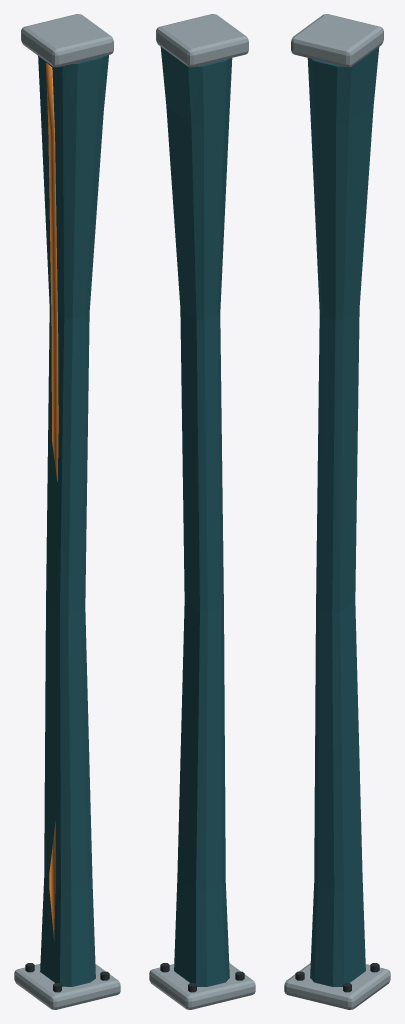
Rendered from SM_StationPost.fbx.
3 views of the same model, side by side, from view 1: azimuth 30°, elevation 25°; view 2: azimuth 210°, elevation 25°; view 3: azimuth 330°, elevation 25° (orthographic).
Visible parts, largest first — view 1: SM_StationPost_UEExport; view 2: SM_StationPost_UEExport; view 3: SM_StationPost_UEExport.
Boxes of the visible parts, bbox=[...] form: SM_StationPost_UEExport: bbox=[14, 14, 120, 1009]; SM_StationPost_UEExport: bbox=[149, 14, 255, 1009]; SM_StationPost_UEExport: bbox=[284, 14, 390, 1009].
Bounding box in the file's own units: 40 × 40 × 522.
